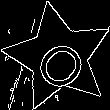O_NE: (25, 24, 92, 90)
